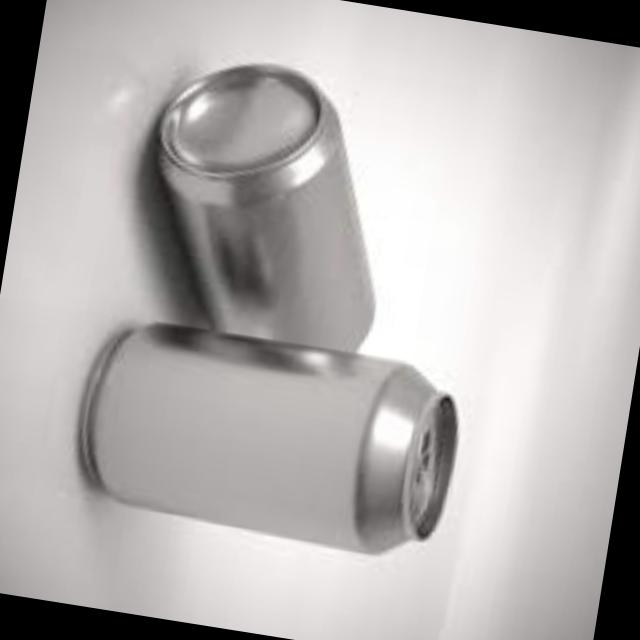metal: (88, 321, 462, 547), (165, 61, 379, 347)
